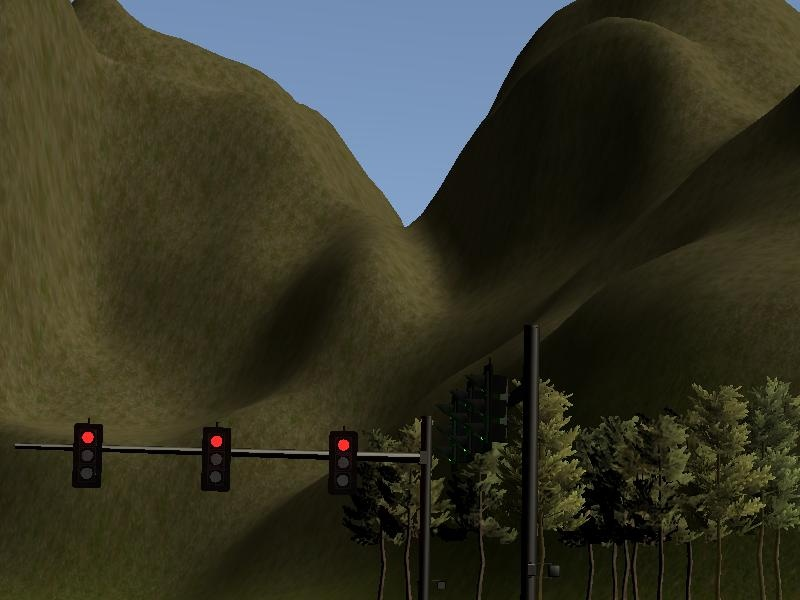red: (74, 423, 104, 489), (201, 426, 230, 494), (330, 433, 358, 499)
